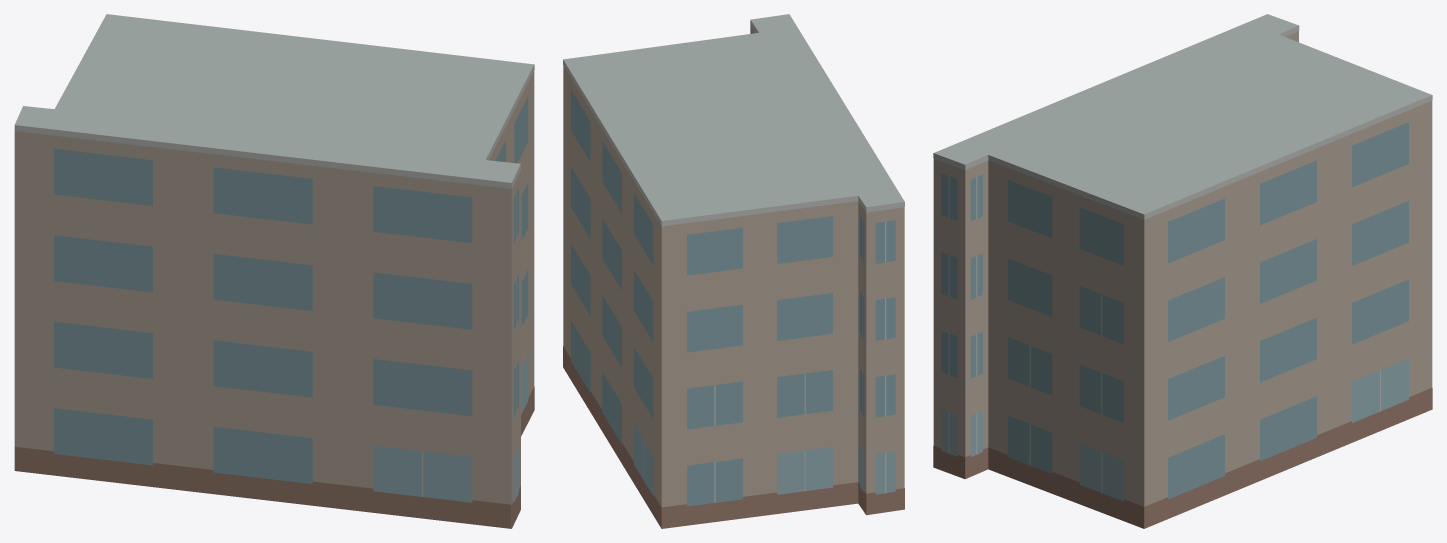
The model's file is survey-upis-32772399.glb.
3 renders of one model, left to right at view 1: azimuth 30°, elevation 25°; view 2: azimuth 150°, elevation 25°; view 3: azimuth 270°, elevation 25°, orthographic. The views are drawn at different scales.
Visible parts, largest first — view 1: survey-upis-32772399.tmp; view 2: survey-upis-32772399.tmp; view 3: survey-upis-32772399.tmp.
Part boxes in pixels (<box>): survey-upis-32772399.tmp: <box>14,14,534,528</box>; survey-upis-32772399.tmp: <box>563,14,904,528</box>; survey-upis-32772399.tmp: <box>933,14,1432,528</box>.
Size of the model in its own units: 19.21 by 14.05 by 20.21.
